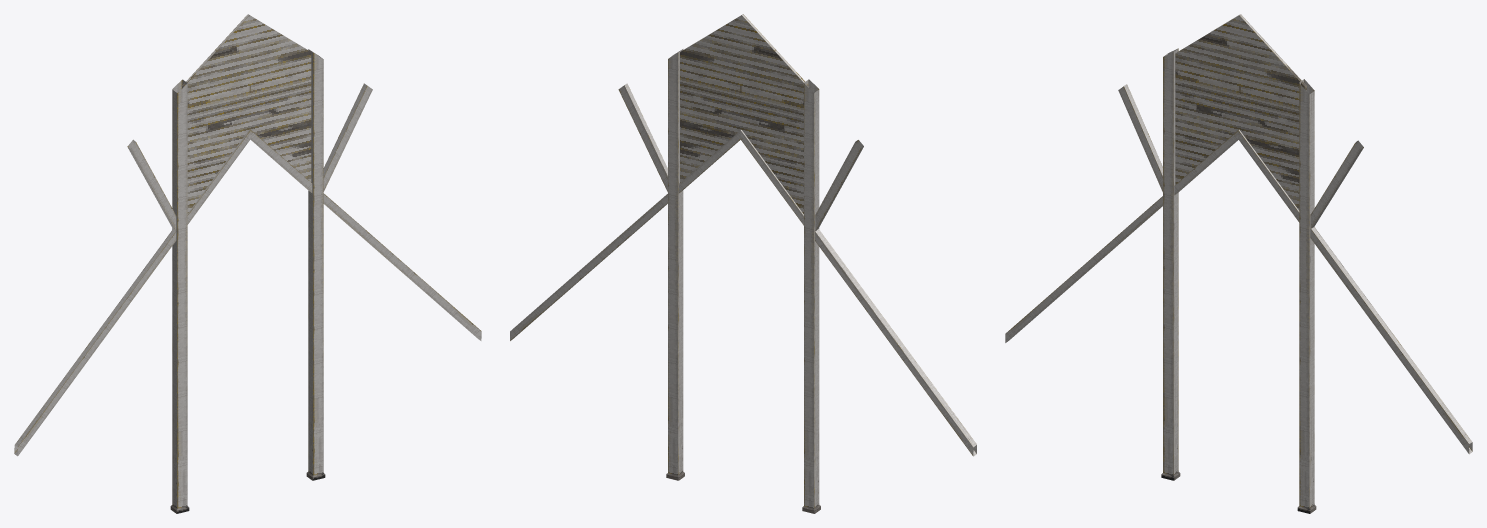
File: gothic_trim.glb
3 views of the same model, side by side, from view 1: azimuth 30°, elevation 25°; view 2: azimuth 150°, elevation 25°; view 3: azimuth 330°, elevation 25° (orthographic).
Parts seen in each view (by area): view 1: Church1_Deco_Column_A; view 2: Church1_Deco_Column_A; view 3: Church1_Deco_Column_A.
Part boxes in pixels (<box>): Church1_Deco_Column_A: <box>14,14,481,513</box>; Church1_Deco_Column_A: <box>510,14,976,513</box>; Church1_Deco_Column_A: <box>1005,14,1472,513</box>.
Bounding box in the file's own units: 10.1 × 9.97 × 0.2419.
1 material, 1 textured.
